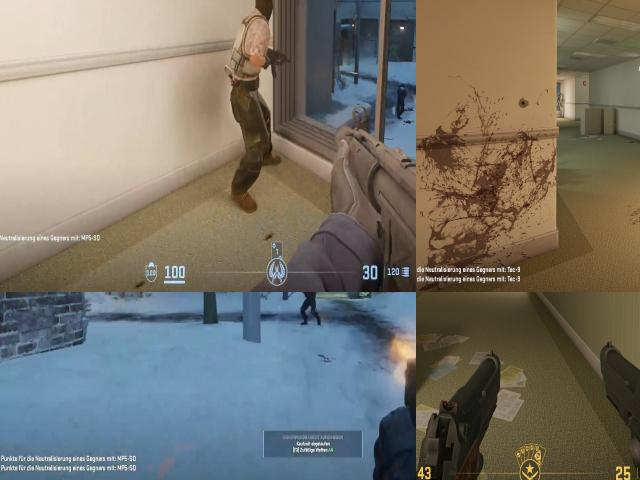CT: (394, 82, 408, 109), (302, 292, 317, 308)
CT-Head: (398, 83, 407, 93)
T: (225, 6, 282, 120)
T-Head: (249, 0, 281, 23)
